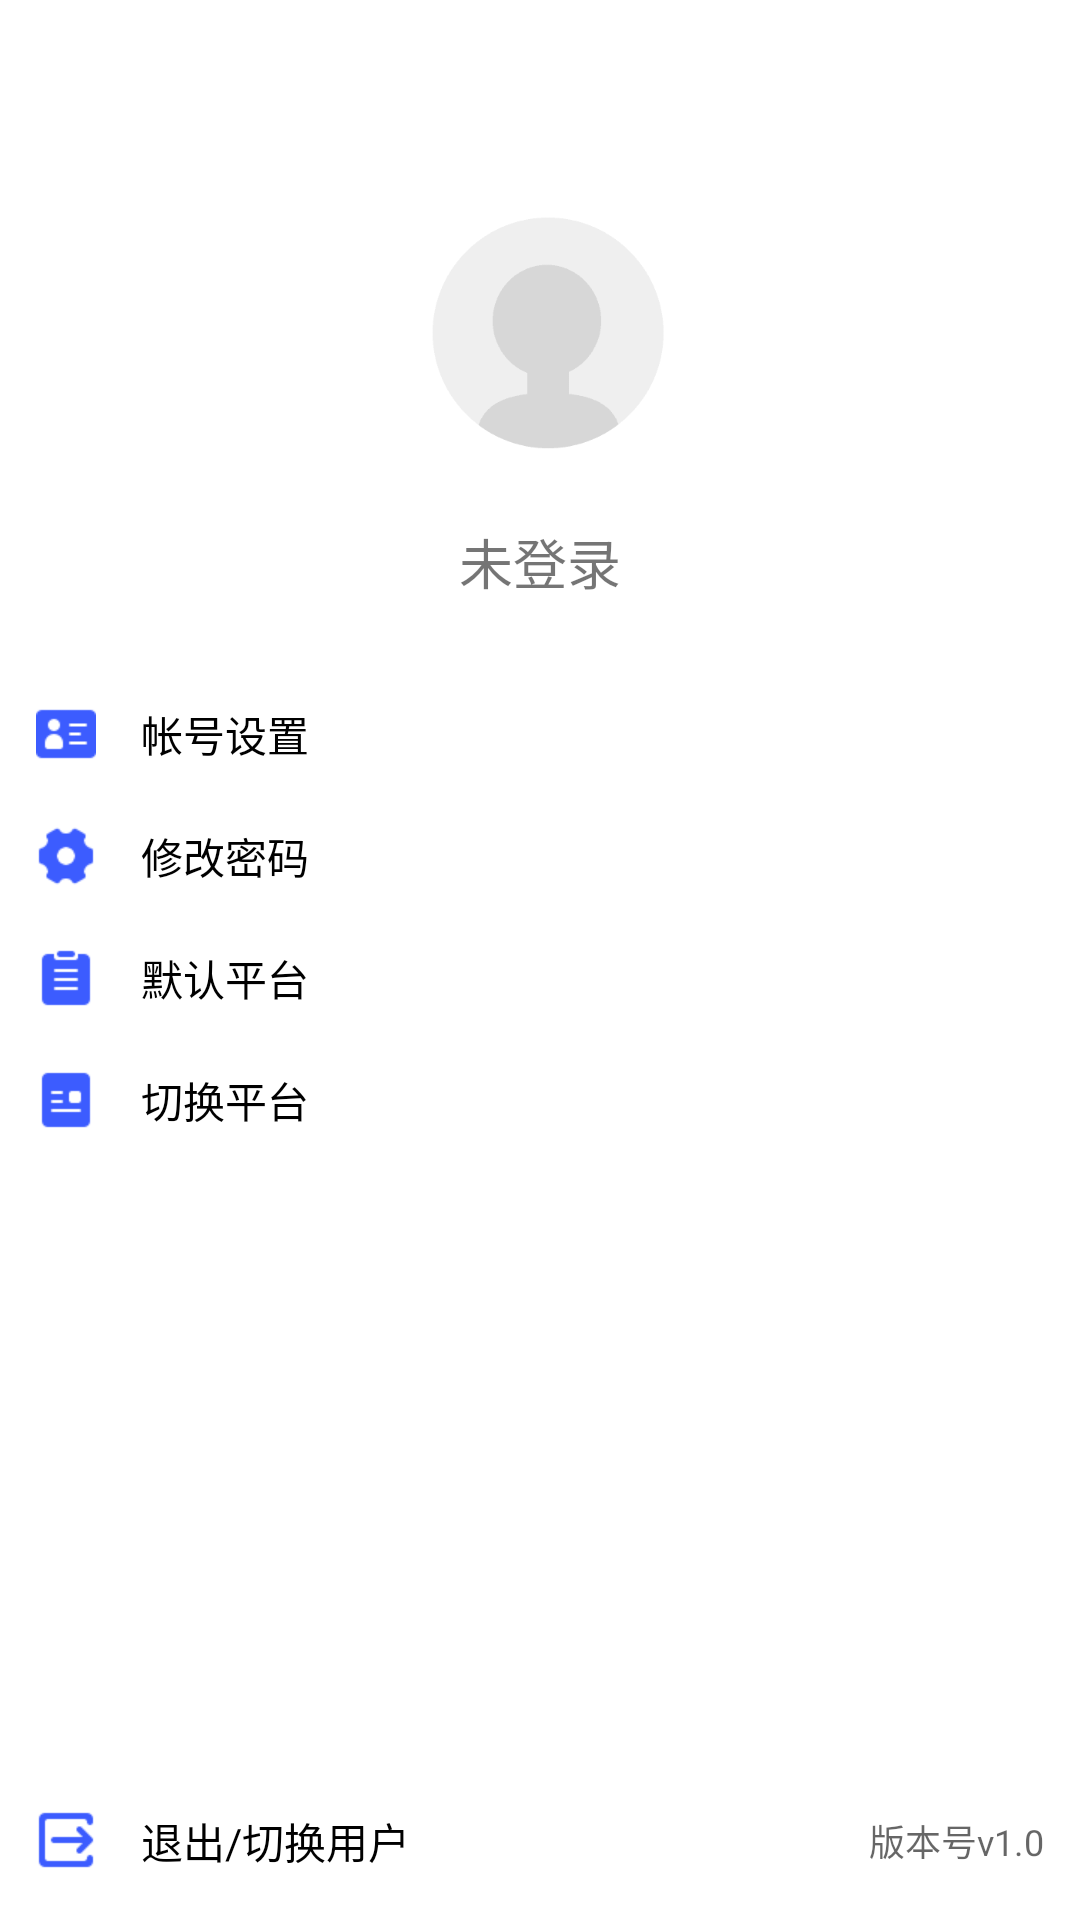

Screen size 1080*1920. Icon name, then its center in pixels as (x=x, y=y):
def head: (x=548, y=356)
quit: (x=66, y=1840)
set: (x=66, y=856)
